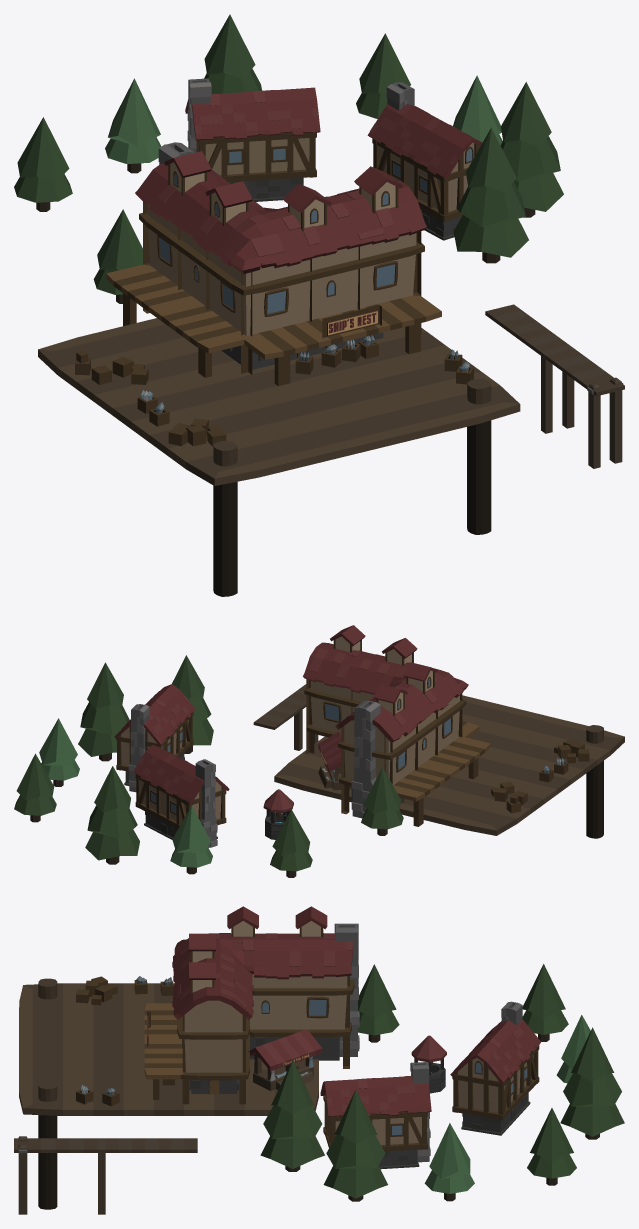
File: ShipsRest.glb
3 renders of one model, top to bottom at view 1: azimuth 30°, elevation 25°; view 2: azimuth 150°, elevation 25°; view 3: azimuth 270°, elevation 25°, orthographic. The views are drawn at different scales.
Visible parts, largest first — view 1: Big Dock, Ships Rest Dock House, Big House - Red Roof - 2, Big House - Red Roof, Small Dock, Large Tree.006, Large Tree.004, Medium Tree.007, Medium Tree.006, Large Tree.005, Medium Tree.009, Medium Tree.005 (+1 smaller); view 2: Ships Rest Dock House, Big Dock, Big House - Red Roof - 2, Big House - Red Roof, Large Tree.005, Large Tree.004, Medium Tree.006, Medium Tree.009, Medium Tree.005, Medium Tree.007, Large Tree.006, Medium Tree.010 (+3 smaller); view 3: Ships Rest Dock House, Big Dock, Big House - Red Roof - 2, Big House - Red Roof, Large Tree.004, Large Tree.005, Large Tree.006, Small Dock, Market Stall.019, Medium Tree.010, Medium Tree.009, Medium Tree.007 (+3 smaller).
Part boxes in pixels (x1,y1,x2,y2): Big Dock: (38, 318, 520, 596); Ships Rest Dock House: (106, 142, 441, 386); Big House - Red Roof - 2: (185, 78, 320, 201); Big House - Red Roof: (367, 82, 482, 240); Small Dock: (485, 304, 624, 468); Large Tree.006: (453, 127, 528, 263); Large Tree.004: (500, 82, 563, 217); Medium Tree.007: (14, 117, 72, 211); Medium Tree.006: (105, 78, 160, 173); Large Tree.005: (204, 14, 261, 94); Medium Tree.009: (356, 33, 410, 118); Medium Tree.005: (93, 209, 142, 303); Ships Rest Dock House: (303, 625, 490, 826); Big Dock: (274, 695, 624, 838); Big House - Red Roof - 2: (133, 745, 229, 847); Big House - Red Roof: (114, 684, 195, 792); Large Tree.005: (85, 766, 139, 864); Large Tree.004: (78, 662, 129, 761); Medium Tree.006: (170, 805, 212, 874); Medium Tree.009: (14, 753, 56, 822); Medium Tree.005: (361, 767, 403, 835); Medium Tree.007: (270, 809, 312, 877); Large Tree.006: (172, 655, 213, 753); Medium Tree.010: (39, 718, 79, 786); Ships Rest Dock House: (144, 906, 359, 1104); Big Dock: (19, 976, 318, 1209); Big House - Red Roof - 2: (450, 1001, 540, 1135); Big House - Red Roof: (320, 1062, 431, 1169); Large Tree.004: (323, 1089, 387, 1201); Large Tree.005: (560, 1027, 624, 1139); Large Tree.006: (260, 1060, 324, 1171); Small Dock: (14, 1136, 197, 1214); Market Stall.019: (248, 1029, 322, 1090); Medium Tree.010: (424, 1123, 474, 1201); Medium Tree.009: (527, 1108, 576, 1185); Medium Tree.007: (522, 964, 568, 1041).
Bounding box in the file's own units: 3.86 × 1.95 × 4.48.
